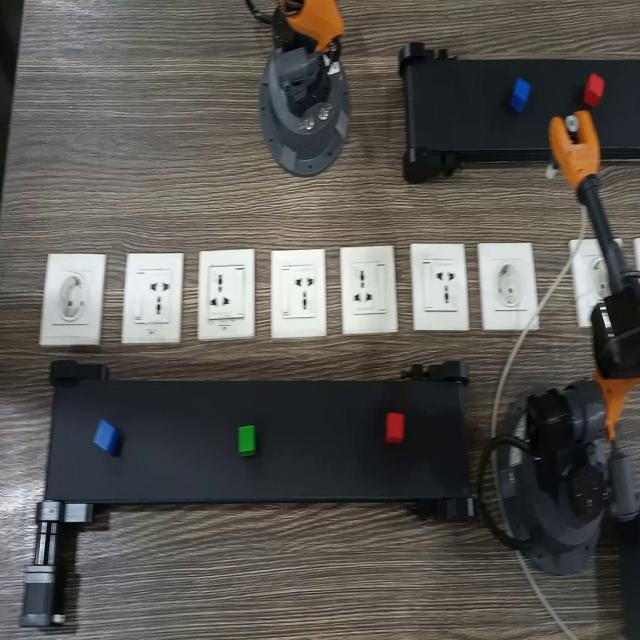cube: (93, 416, 122, 457), (584, 69, 611, 112), (235, 419, 260, 460), (511, 73, 535, 114), (384, 408, 407, 447)
